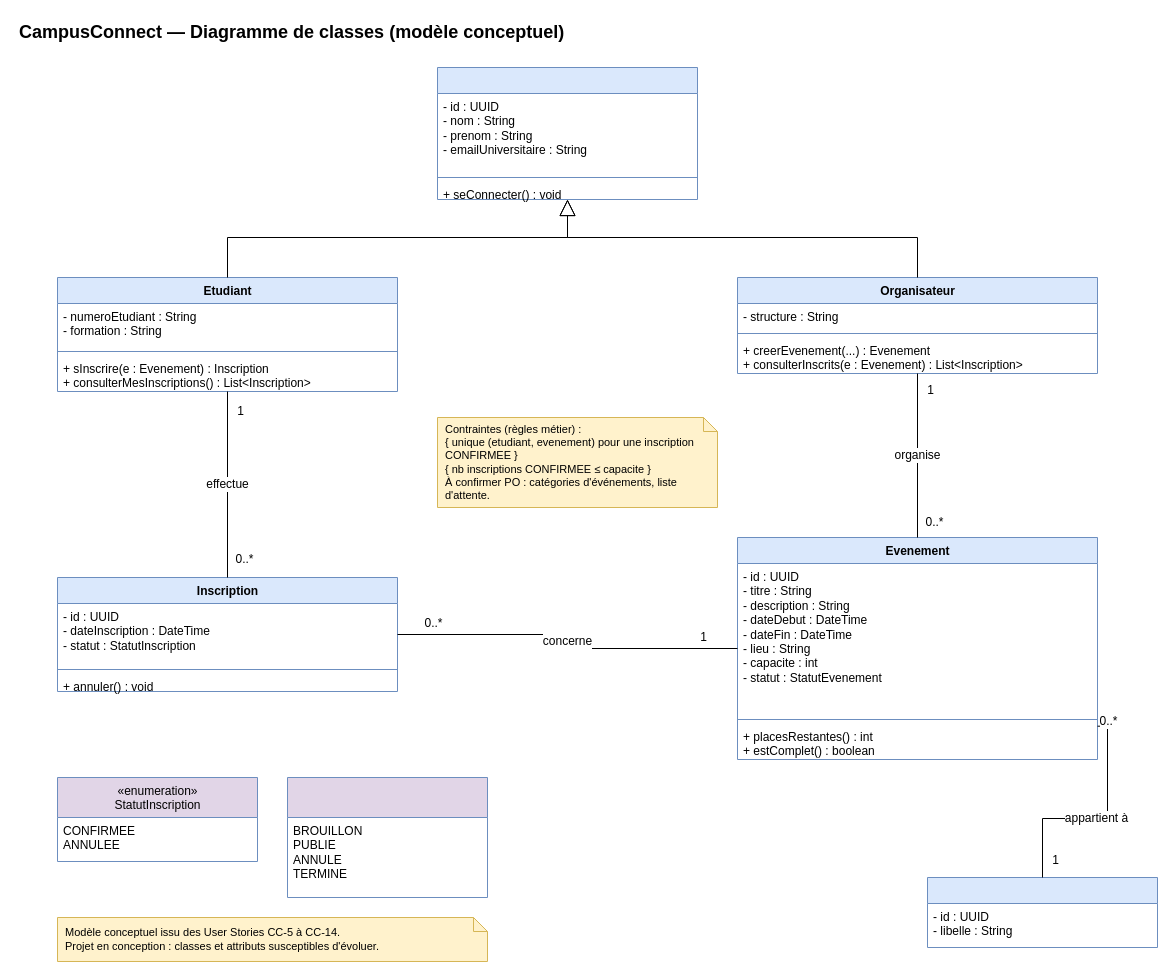
This 1175x979 diagram has some shape labels left out. The box of each missing label's shape, as (x1, y1, x2, y2) in pixels:
Categorie: (926, 876, 1158, 948)
Utilisateur: (436, 66, 698, 200)
«enumeration» StatutEvenement: (286, 776, 488, 898)
